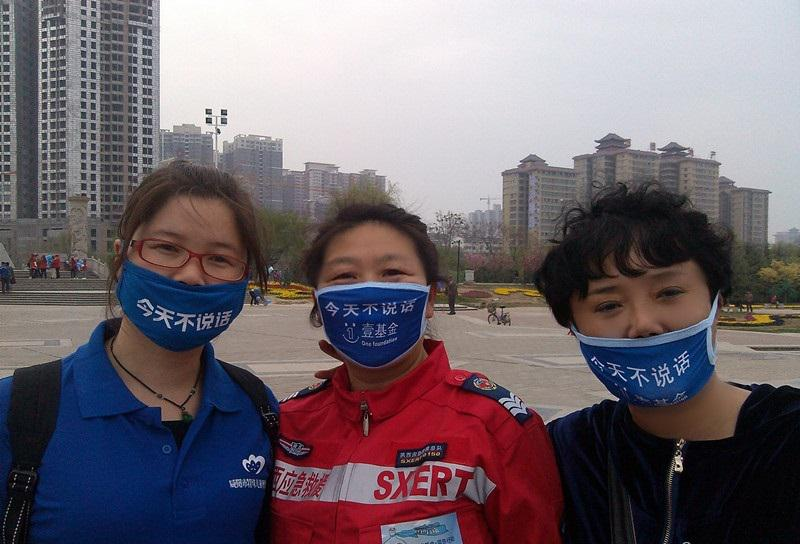OK: (322, 243, 431, 352)
WRONG: (576, 264, 717, 405), (127, 220, 252, 345)
